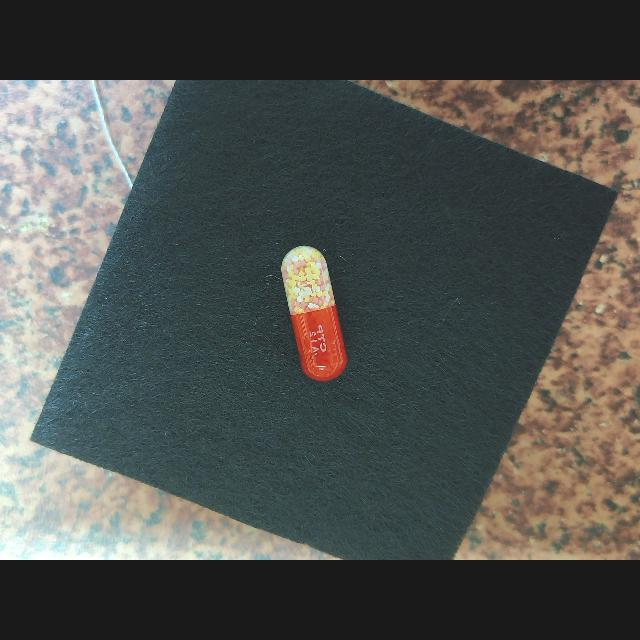Intact Capsule: (281, 245, 347, 381)
